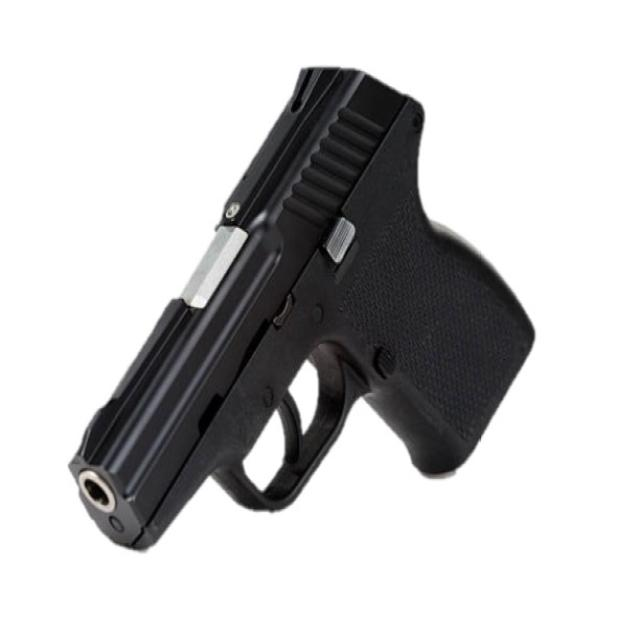pistol: (65, 59, 543, 563)
